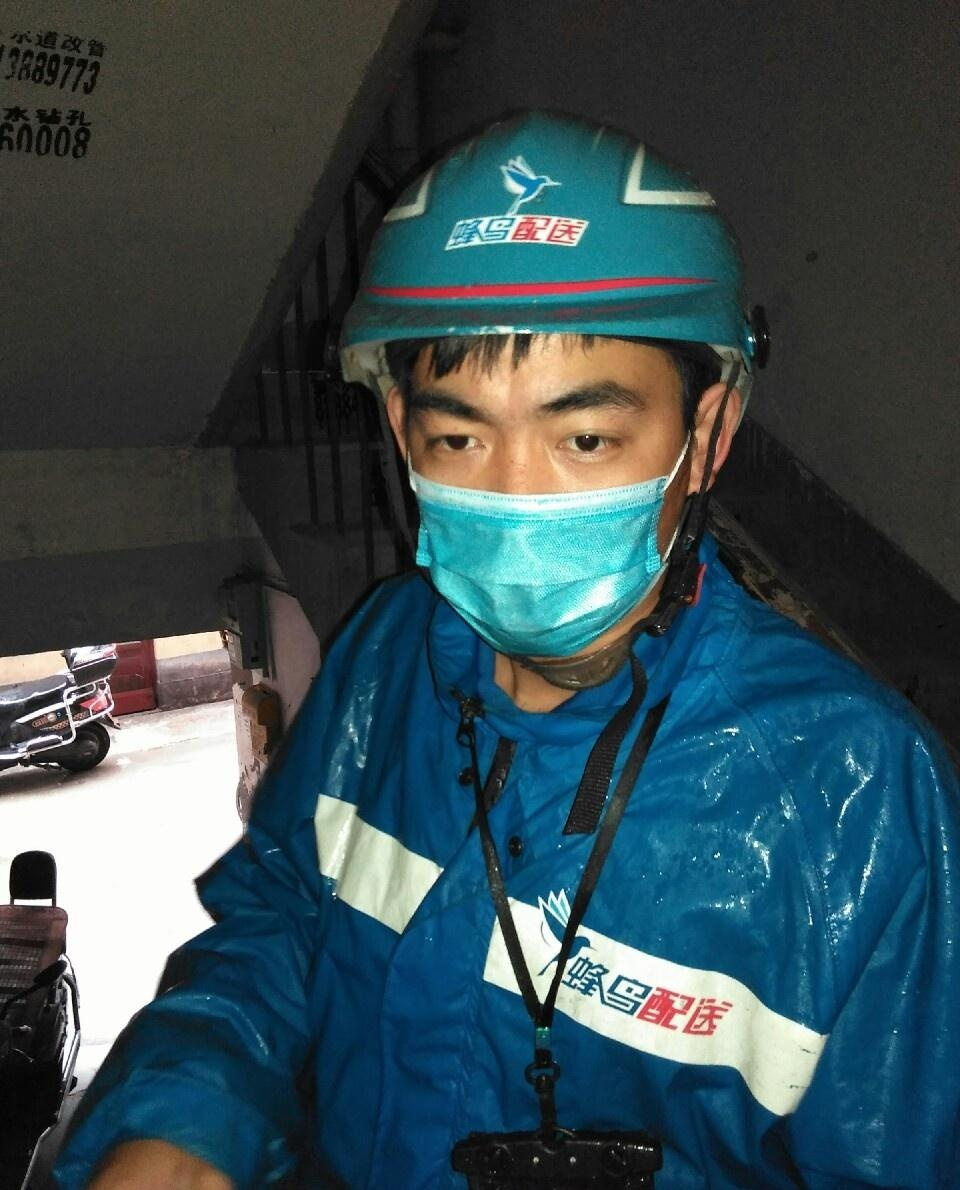Mask: (392, 379, 667, 653)
